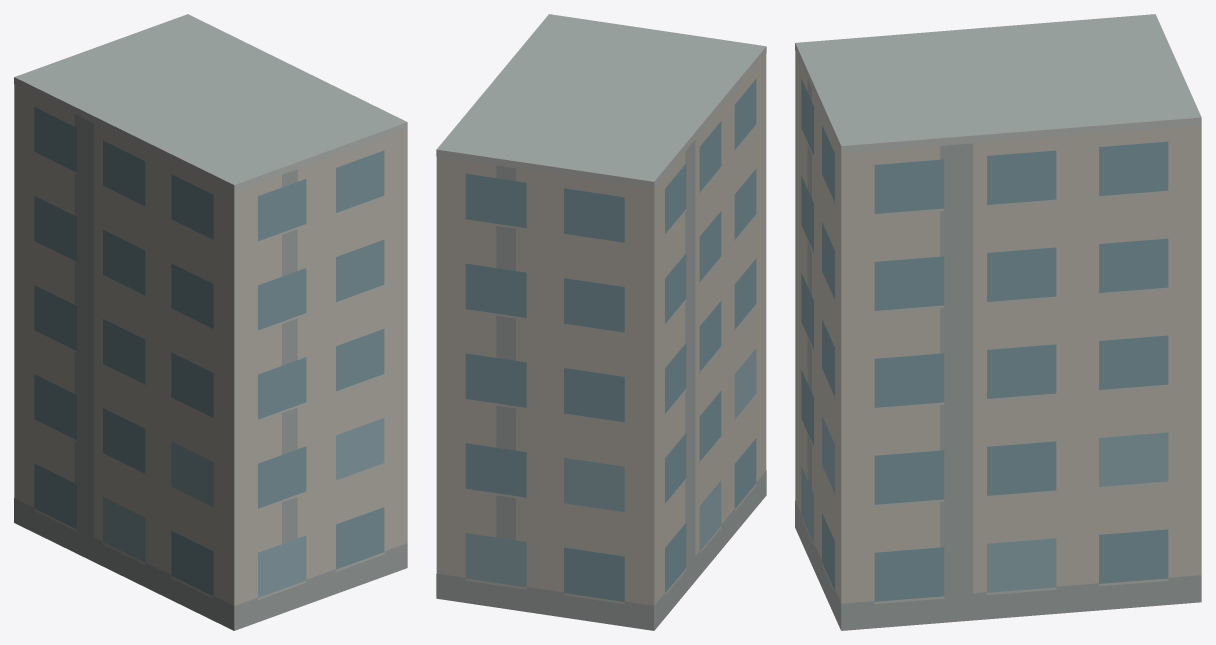
The model's file is residential-b89132be-dc8f-46a8-86b9-7d33b60b81a9.glb.
3 views of the same model, side by side, from view 1: azimuth 30°, elevation 25°; view 2: azimuth 150°, elevation 25°; view 3: azimuth 270°, elevation 25° (orthographic). The views are drawn at different scales.
Visible parts, largest first — view 1: residential-b89132be-dc8f-46a8-86b9-7d33b60b81a9.tmp; view 2: residential-b89132be-dc8f-46a8-86b9-7d33b60b81a9.tmp; view 3: residential-b89132be-dc8f-46a8-86b9-7d33b60b81a9.tmp.
Part boxes in pixels (x1,y1,x2,y2): residential-b89132be-dc8f-46a8-86b9-7d33b60b81a9.tmp: (14, 14, 407, 630); residential-b89132be-dc8f-46a8-86b9-7d33b60b81a9.tmp: (436, 14, 766, 630); residential-b89132be-dc8f-46a8-86b9-7d33b60b81a9.tmp: (795, 14, 1201, 630).
Size of the model in its own units: 8.92 by 15.25 by 11.6.
